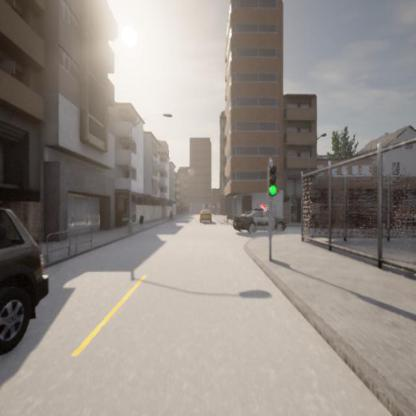traffic_light_green: (268, 163, 277, 194)
vehicle: (233, 210, 278, 234), (199, 208, 213, 224)
